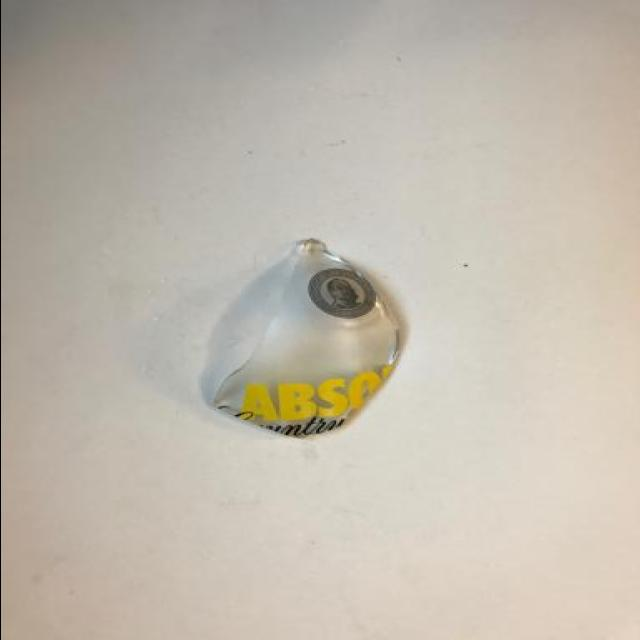glass: (188, 239, 402, 441)
